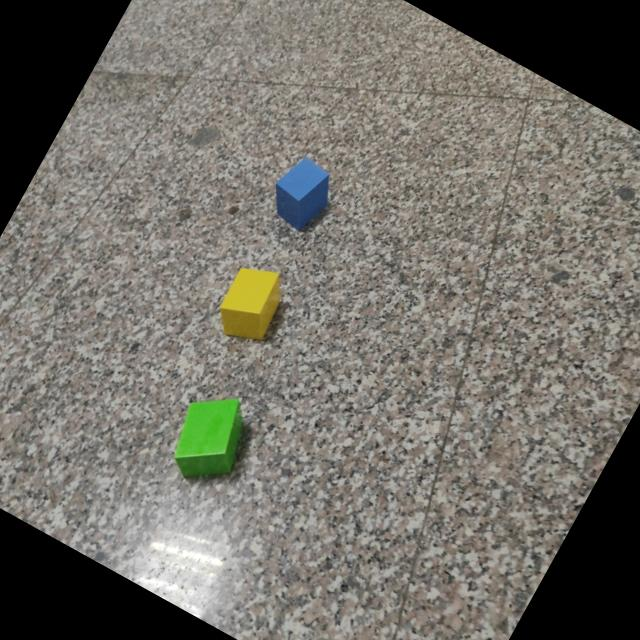blue: (273, 159, 329, 233)
green: (172, 399, 245, 482)
yellow: (218, 269, 281, 344)
